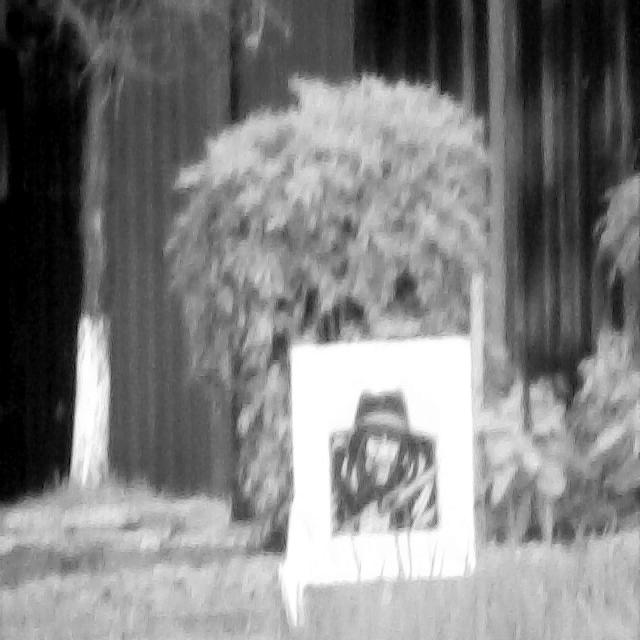bia: (326, 384, 438, 537)
